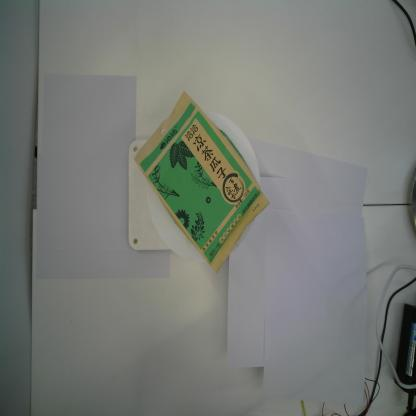Dried Food: (132, 90, 272, 277)
